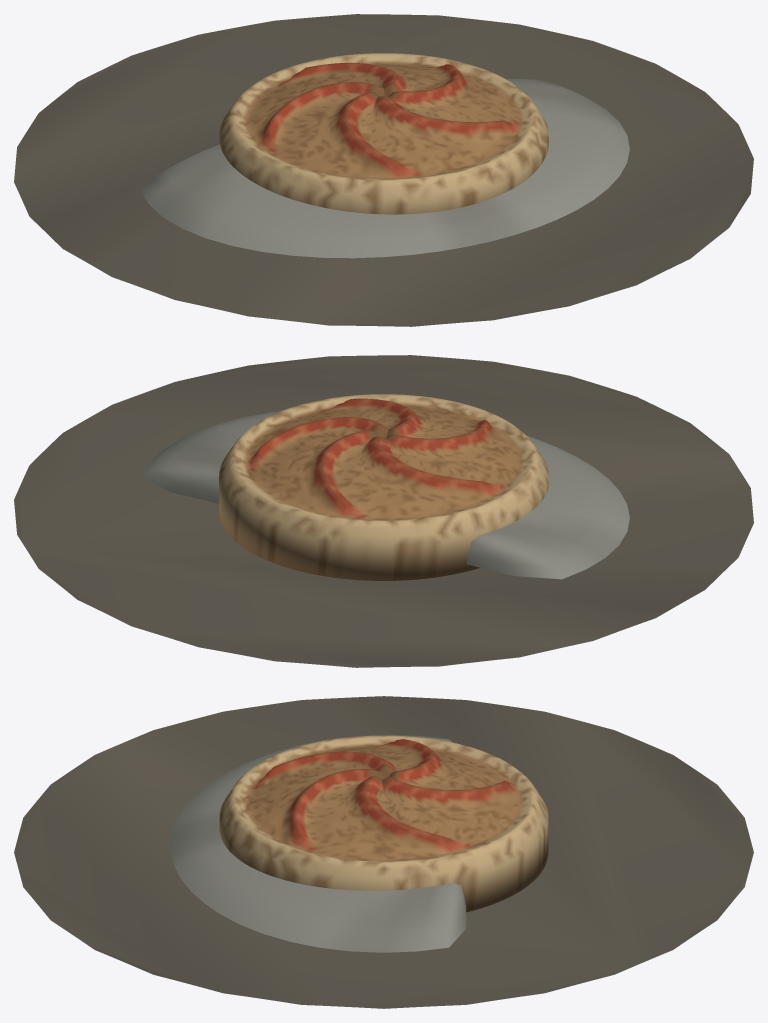
File: IsorophusCincinnatiensis.fbx
3 renders of one model, top to bottom at view 1: azimuth 30°, elevation 25°; view 2: azimuth 150°, elevation 25°; view 3: azimuth 270°, elevation 25°, orthographic.
Visible parts, largest first — view 1: IsorophusCincinnatiensis; view 2: IsorophusCincinnatiensis; view 3: IsorophusCincinnatiensis.
Part boxes in pixels (x1,y1,x2,y2): IsorophusCincinnatiensis: (14, 14, 753, 326); IsorophusCincinnatiensis: (14, 355, 753, 667); IsorophusCincinnatiensis: (14, 696, 753, 1008).
Bounding box in the file's own units: 1.8 × 0.2244 × 1.8.
